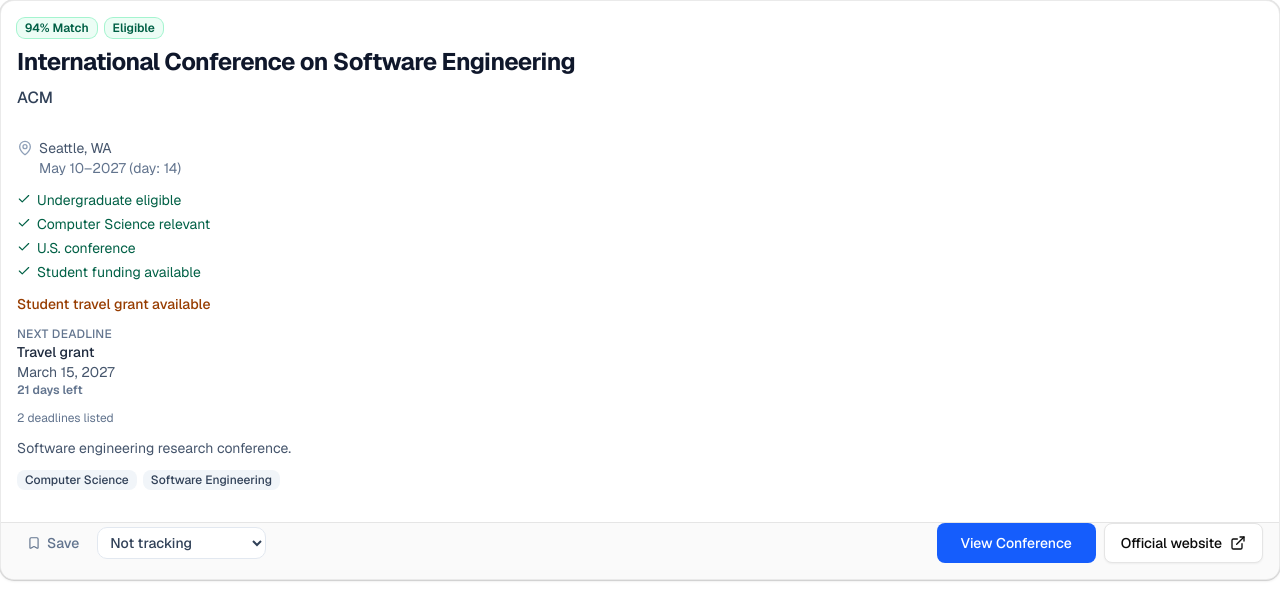
Test: ConferenceCard › opens match breakdown from backend factors
The width and height of the screenshot is (1280, 598).
Click the button with test id "match-score". click: {"x": 57, "y": 28}
box: 17,18 -> 97,38
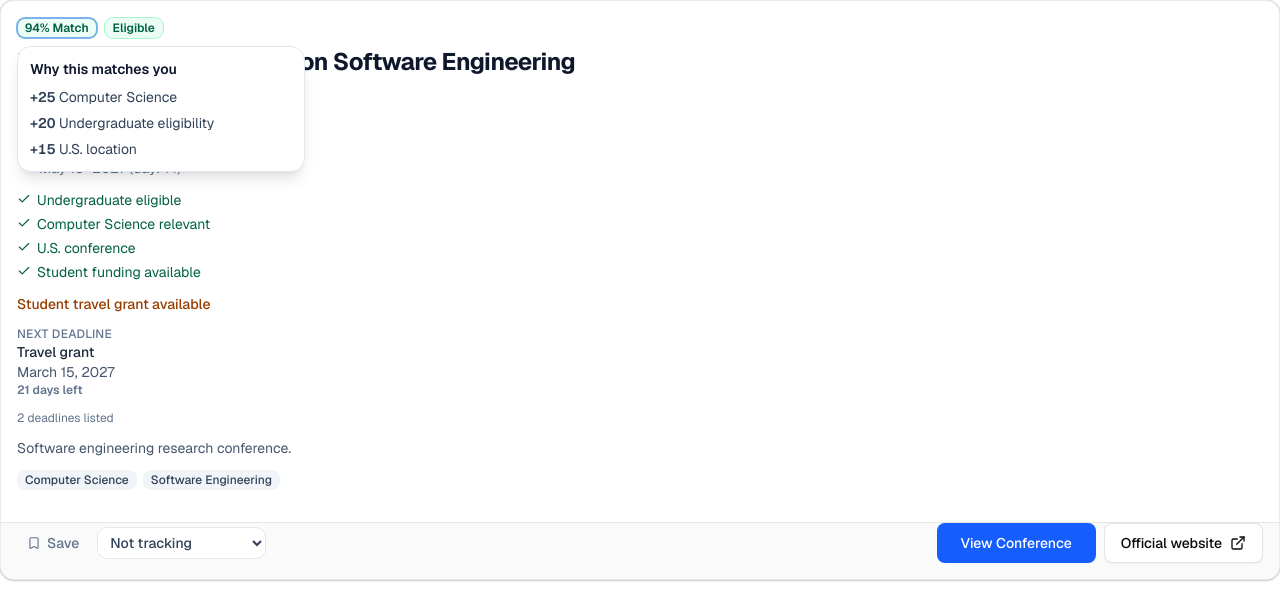
Check: the element with test id "match-breakdown" shows "+25 Computer Science", box 17,46 -> 305,172
Check: the element with test id "match-breakdown" shows "+20 Undergraduate eligibility", box 17,46 -> 305,172
